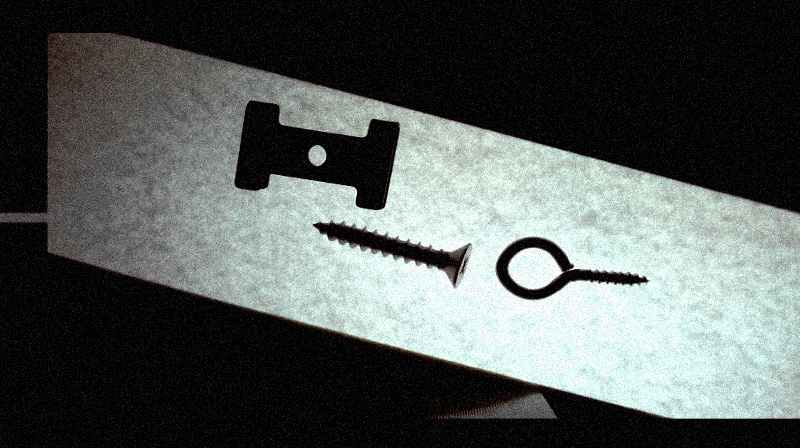O001: (492, 233, 653, 301)
O002: (232, 97, 400, 212)
S001: (309, 217, 475, 289)
